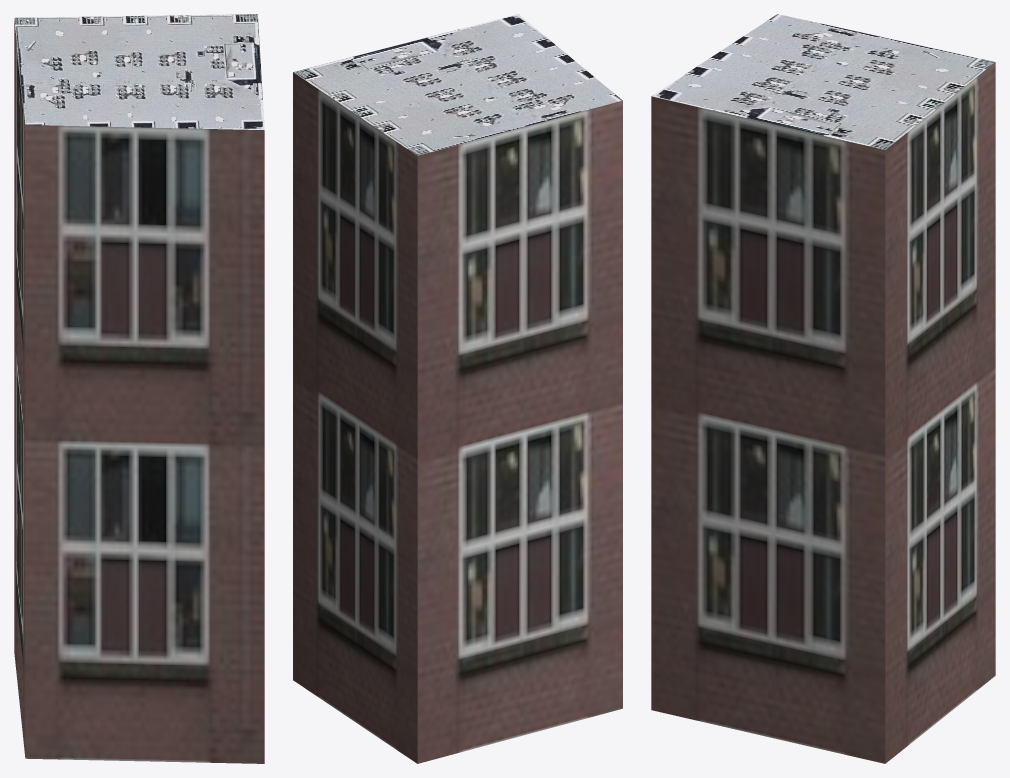
Rendered from ResTex__3988.fbx.
The picture shows the model from 3 angles, left to right: view 1: azimuth 30°, elevation 25°; view 2: azimuth 150°, elevation 25°; view 3: azimuth 270°, elevation 25°; orthographic projection. The views are drawn at different scales.
Visible parts, largest first — view 1: CityEngineMaterial_12_m, CityEngineMaterial_8_m; view 2: CityEngineMaterial_12_m, CityEngineMaterial_8_m; view 3: CityEngineMaterial_12_m, CityEngineMaterial_8_m.
Part boxes in pixels (box(x1,y1,x2,y2)): CityEngineMaterial_12_m: box(14, 20, 264, 763); CityEngineMaterial_8_m: box(14, 14, 264, 130); CityEngineMaterial_12_m: box(293, 72, 622, 763); CityEngineMaterial_8_m: box(293, 14, 622, 155); CityEngineMaterial_12_m: box(651, 62, 995, 763); CityEngineMaterial_8_m: box(652, 14, 994, 149).
Bounding box in the file's own units: 2.85 × 6 × 3.05.
2 materials, 2 textured.
